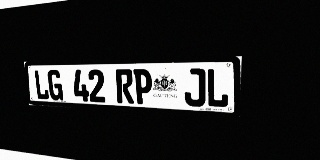2: (88, 69, 105, 102)
4: (72, 69, 89, 102)
G: (47, 70, 63, 101)
J: (184, 68, 205, 107)
L: (206, 68, 229, 108), (34, 70, 49, 100)
P: (133, 69, 153, 105)
R: (115, 69, 134, 104)
